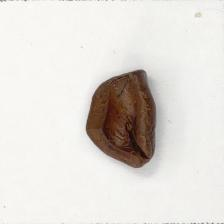NG: (84, 68, 158, 169)
